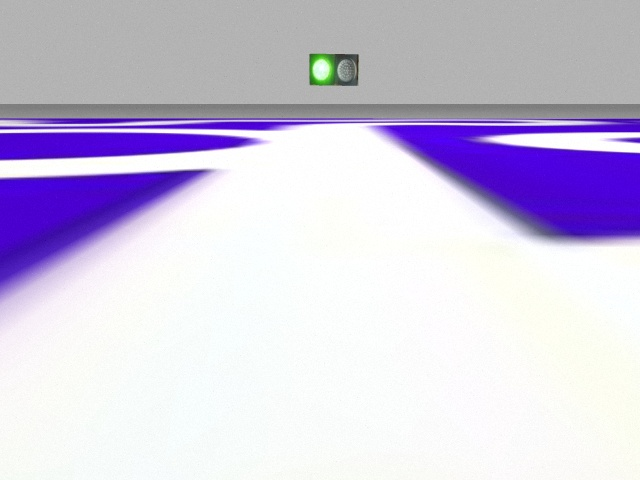green: (310, 51, 337, 86)
